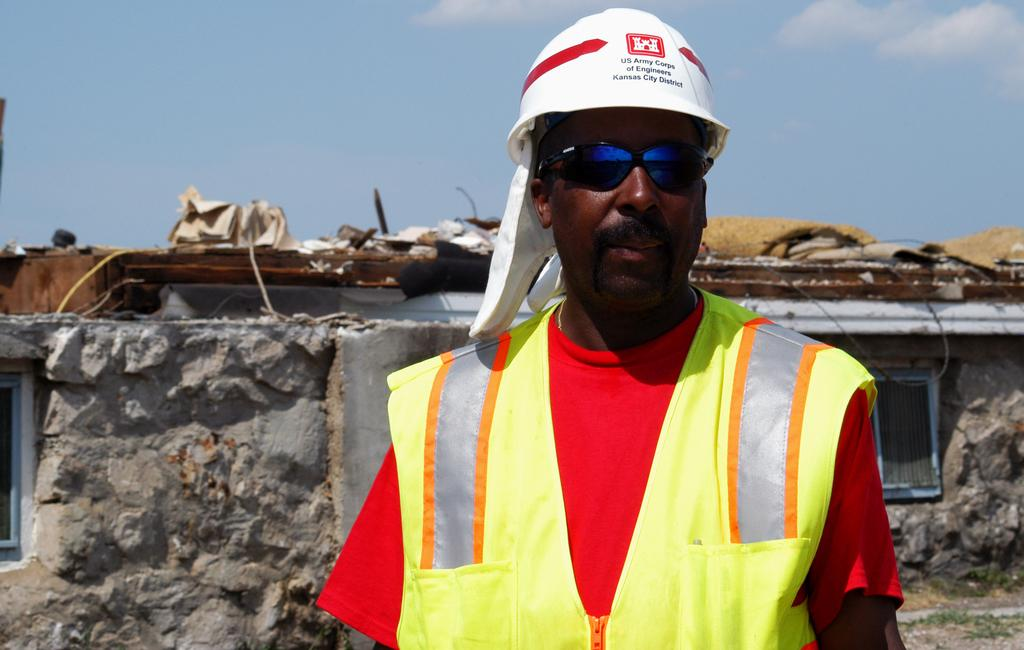helmet: (506, 8, 731, 299)
